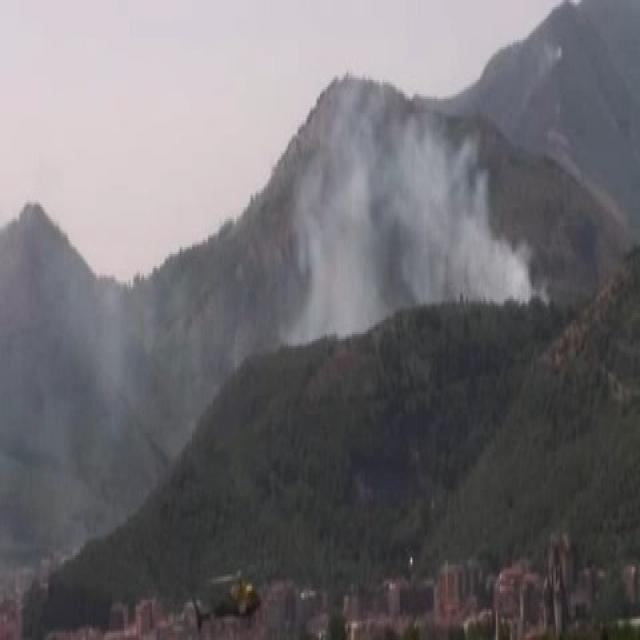smoke: (318, 96, 510, 313)
